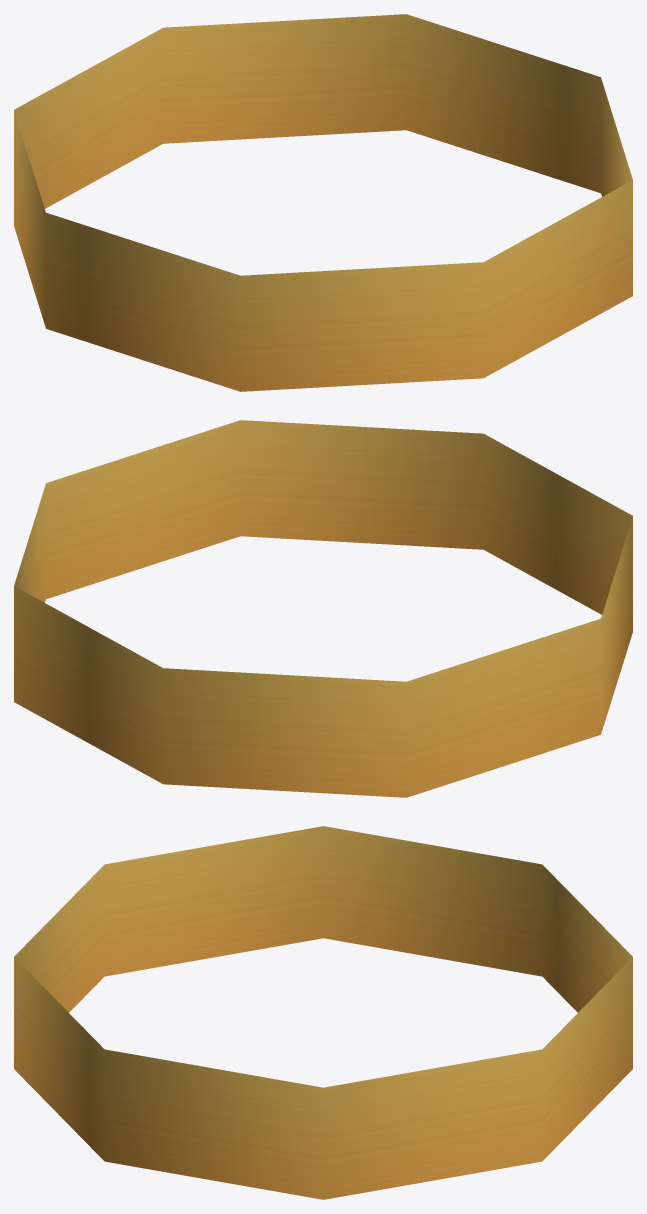
Rendered from indicator_round_a.glb.
The picture shows the model from 3 angles, top to bottom: view 1: azimuth 30°, elevation 25°; view 2: azimuth 150°, elevation 25°; view 3: azimuth 270°, elevation 25°; orthographic projection. The views are drawn at different scales.
Visible parts, largest first — view 1: rotate-y; view 2: rotate-y; view 3: rotate-y.
Part boxes in pixels (x1,y1,x2,y2): rotate-y: [14, 14, 632, 391]; rotate-y: [14, 420, 632, 797]; rotate-y: [14, 826, 632, 1199].
Size of the model in its own units: 1 by 0.2 by 1.
Materials: 1 (1 with a texture image).
